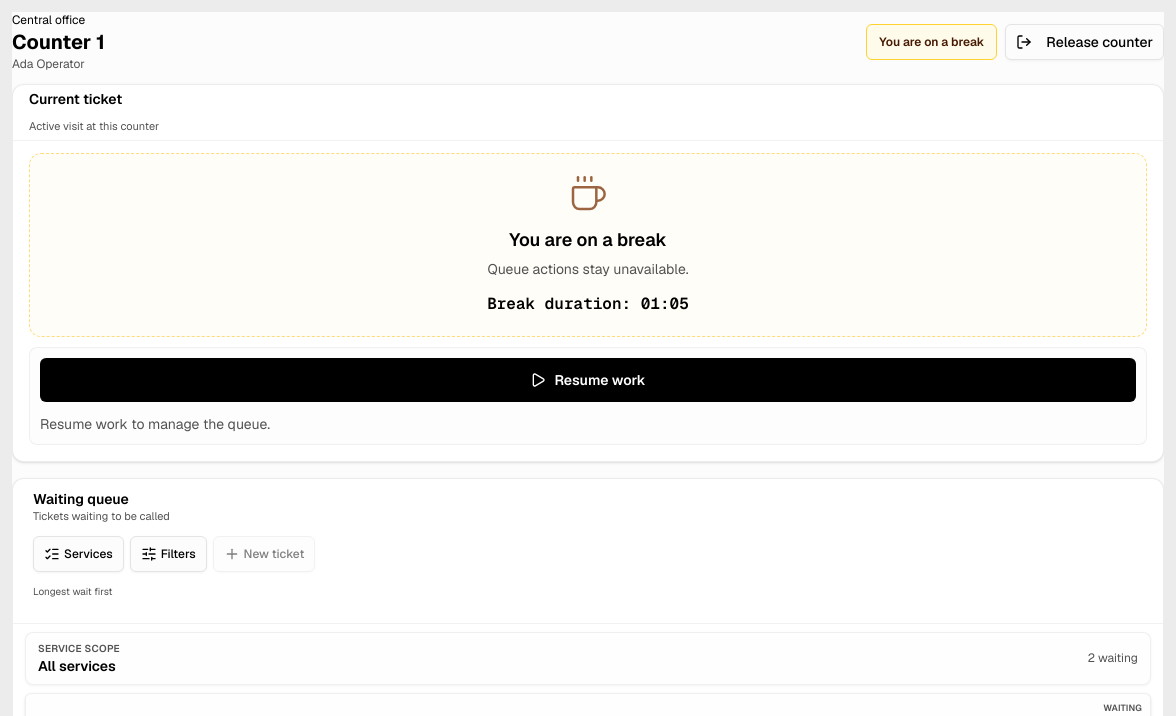
Test: StaffWorkspacePage integration › shows a localized inline fallback while keeping end-break detail in the toast
Click the button "Resume work": click(588, 380) 40,358 -> 1136,402
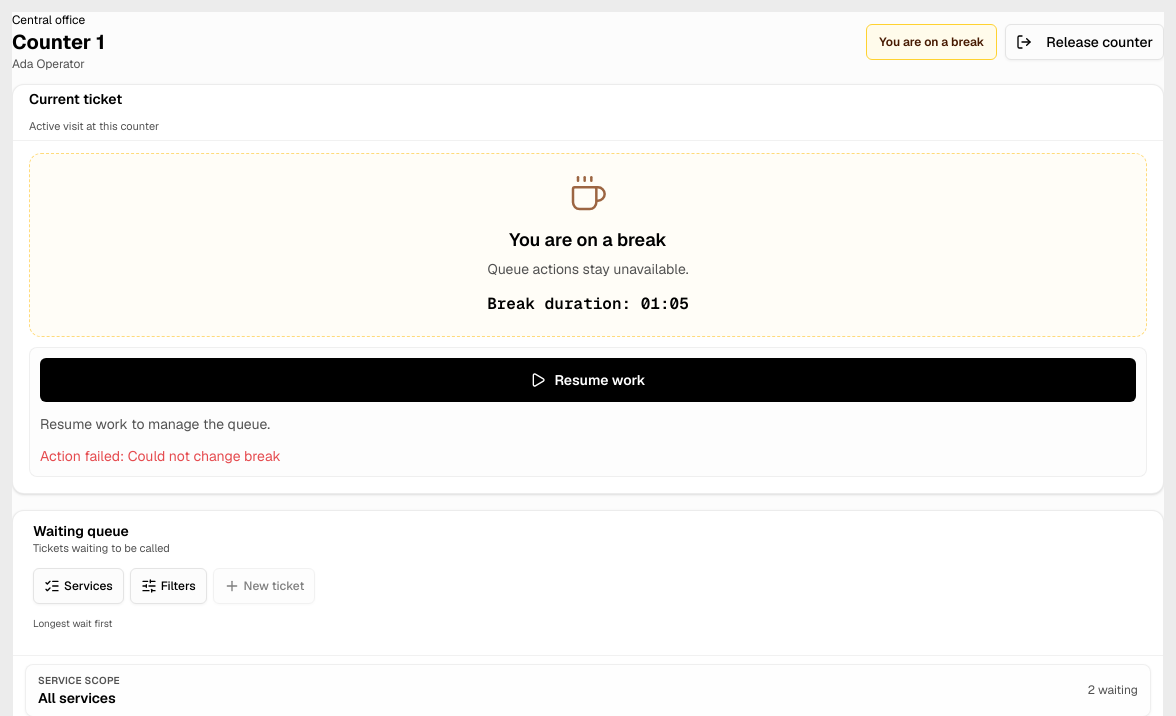
Expected: the message "Action failed: Could not change break" does not show "Backend unavailable", 40,447 -> 281,465
Expected: the message "Action failed: Could not change break" is shown, 40,447 -> 281,465
